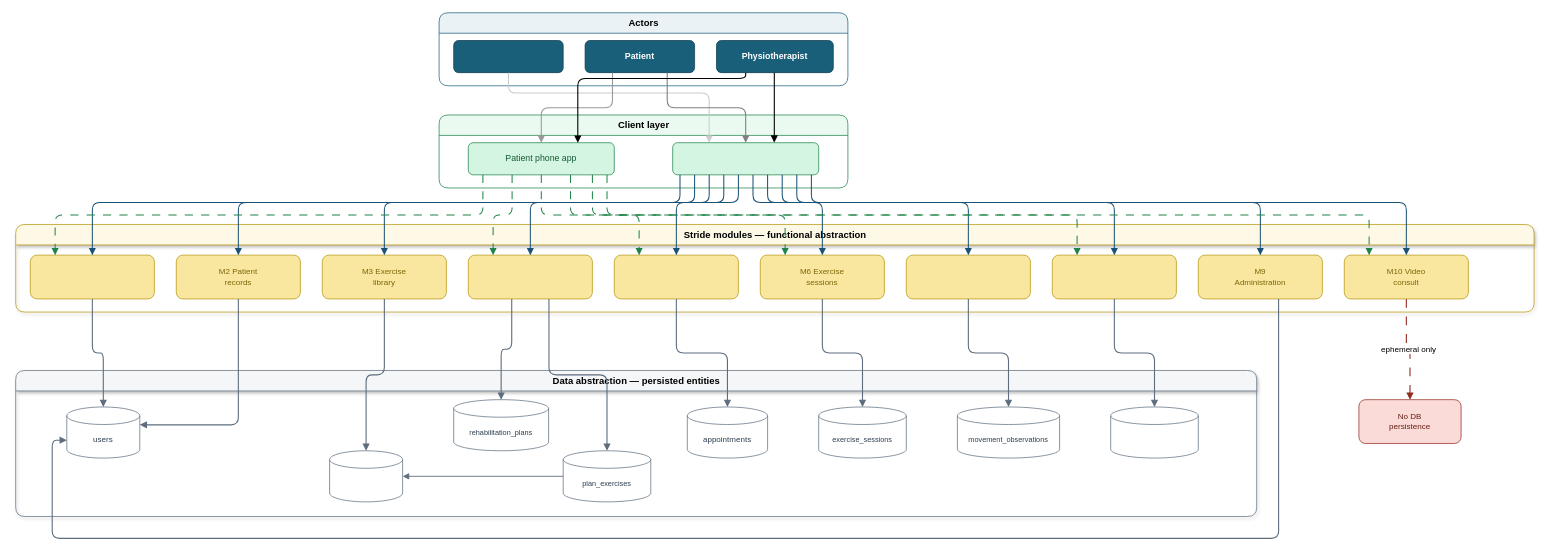
Image size: 1551x558. Some labels were removed from this diagram. The centre of each missing label's shape, as x and y in pixels:
"Administrator" belongs at point 508,56.
"Clinic website" belongs at point 745,158.
"consent_records" belongs at point 1154,432.
"exercises" belongs at point 366,476.
"M1 Identity & access" belongs at point 92,276.
"M4 Rehabilitation plans" belongs at point 530,276.
"M5 Appointments" belongs at point 676,276.
"M7 Movement observations" belongs at point 968,276.
"M8 Consent" belongs at point 1114,276.
